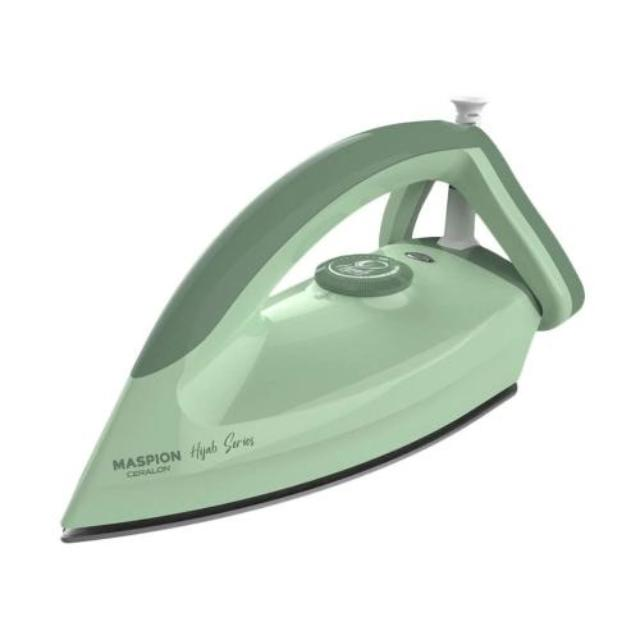Clothes-Iron: (144, 56, 536, 532)
